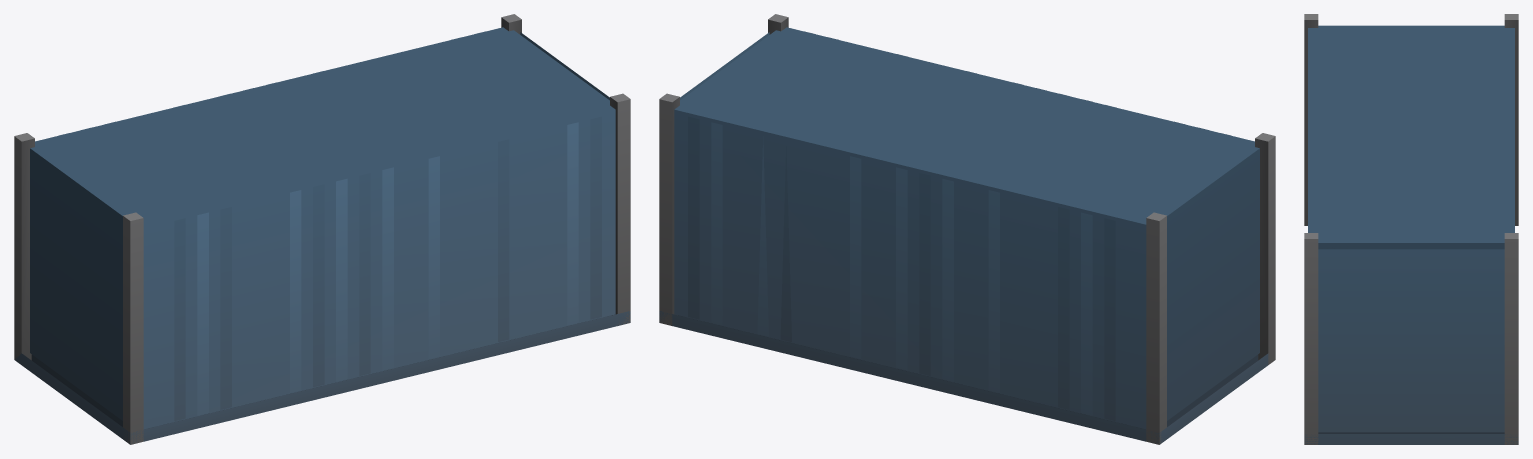
File: box_blue.lod.glb
3 renders of one model, left to right at view 1: azimuth 30°, elevation 25°; view 2: azimuth 150°, elevation 25°; view 3: azimuth 270°, elevation 25°, orthographic. The views are drawn at different scales.
Parts seen in each view (by area): view 1: box_blue; view 2: box_blue; view 3: box_blue.
Boxes of the visible parts, x1=… form: box_blue: x1=14, y1=14, x2=630, y2=444; box_blue: x1=659, y1=14, x2=1275, y2=444; box_blue: x1=1304, y1=14, x2=1518, y2=444.
Bounding box in the file's own units: 6.06 × 2.59 × 2.44.
